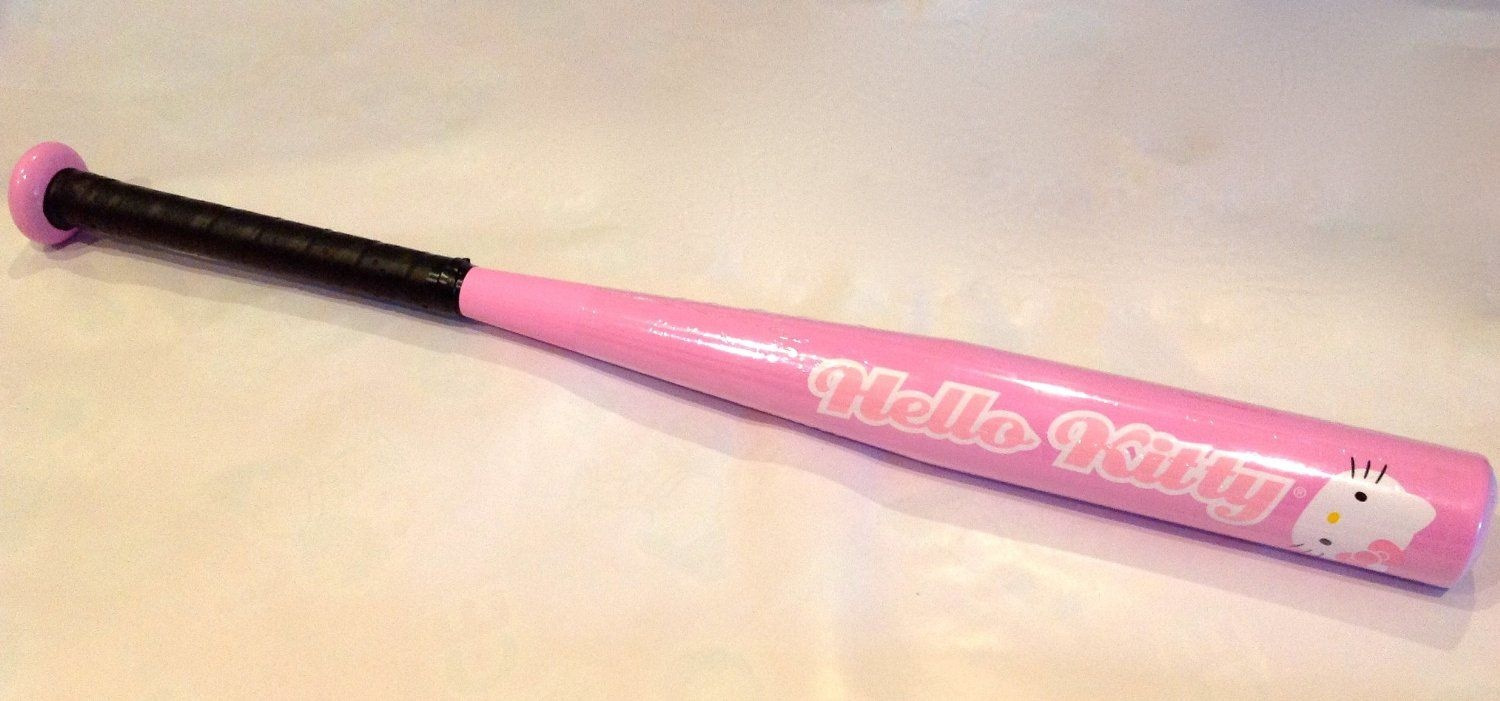bita: (20, 161, 1460, 580)
